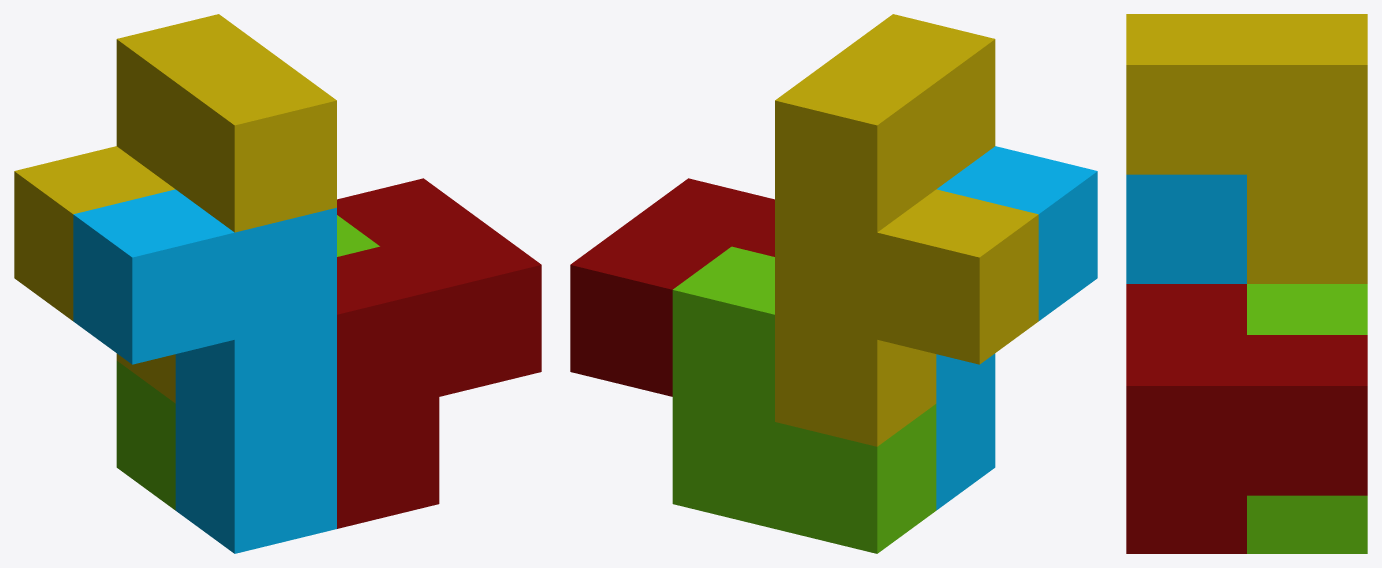
3 renders of one model, left to right at view 1: azimuth 30°, elevation 25°; view 2: azimuth 150°, elevation 25°; view 3: azimuth 270°, elevation 25°, orthographic. The views are drawn at different scales.
Parts seen in each view (by area): view 1: mergedBlocks(Clone); view 2: mergedBlocks(Clone); view 3: mergedBlocks(Clone).
Boxes of the visible parts, x1,y1,x2,y2 form: mergedBlocks(Clone): [14, 14, 541, 553]; mergedBlocks(Clone): [570, 14, 1097, 553]; mergedBlocks(Clone): [1126, 14, 1367, 553].
Size of the model in its own units: 4 by 4 by 2.
Materials: 4 (4 with a texture image).
